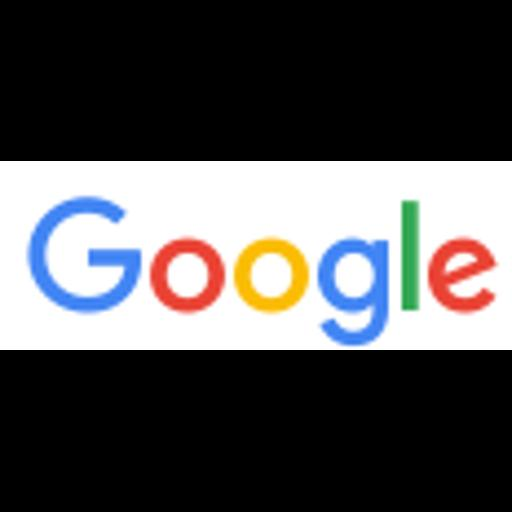Google: (0, 161, 512, 350)
